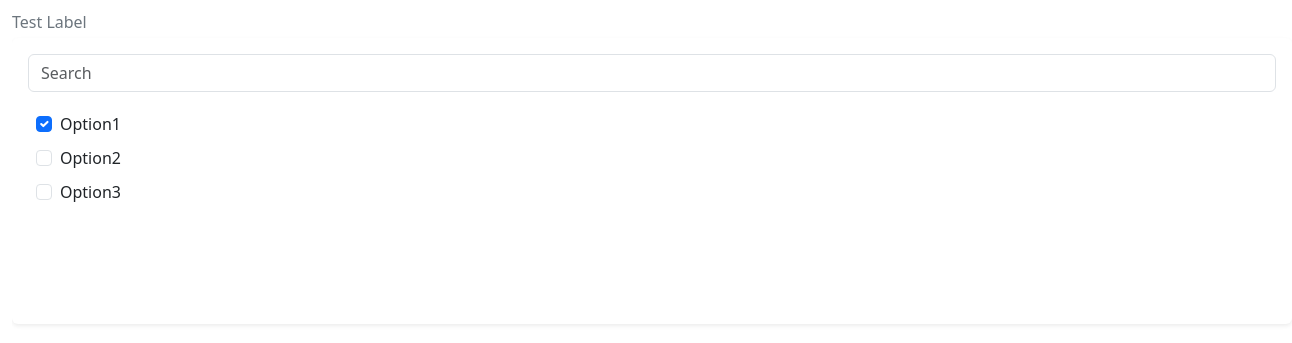
CheckboxFilter › filters options based on search
The image size is (1292, 343).
In the search field with placeholder "Search": point(652, 73) top-left (28, 54), bottom-right (1276, 92), type "Option1"
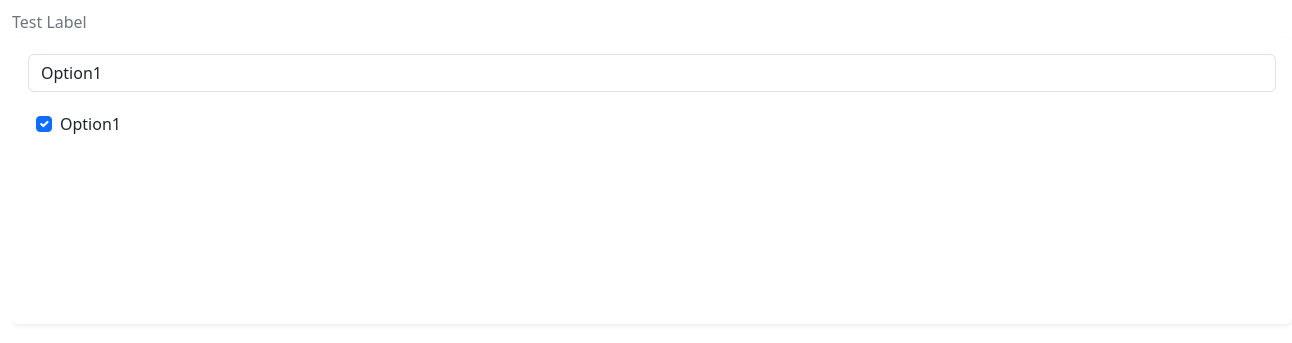
Expected: the checkbox labelled "Option1" is shown, top-left (36, 116), bottom-right (52, 132)
Result: the label labelled "Option2" is gone
Result: the label labelled "Option3" is gone
